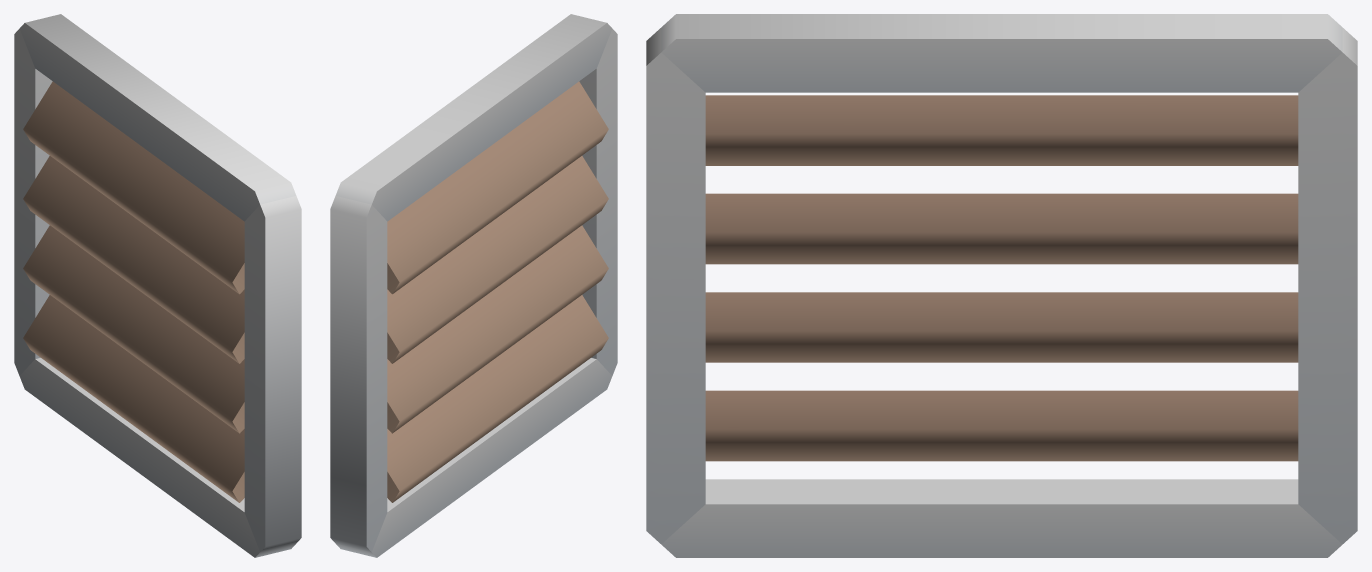
File: shutter-wide (%wall).glb
The picture shows the model from 3 angles, left to right: view 1: azimuth 30°, elevation 25°; view 2: azimuth 150°, elevation 25°; view 3: azimuth 270°, elevation 25°; orthographic projection. The views are drawn at different scales.
Visible parts, largest first — view 1: shutter-wide (%wall); view 2: shutter-wide (%wall); view 3: shutter-wide (%wall).
Part boxes in pixels (x1=…): shutter-wide (%wall): x1=14, y1=14, x2=301, y2=557; shutter-wide (%wall): x1=330, y1=14, x2=617, y2=557; shutter-wide (%wall): x1=646, y1=14, x2=1357, y2=557.
Size of the model in its own units: 0.0668 by 0.4832 by 0.6.
